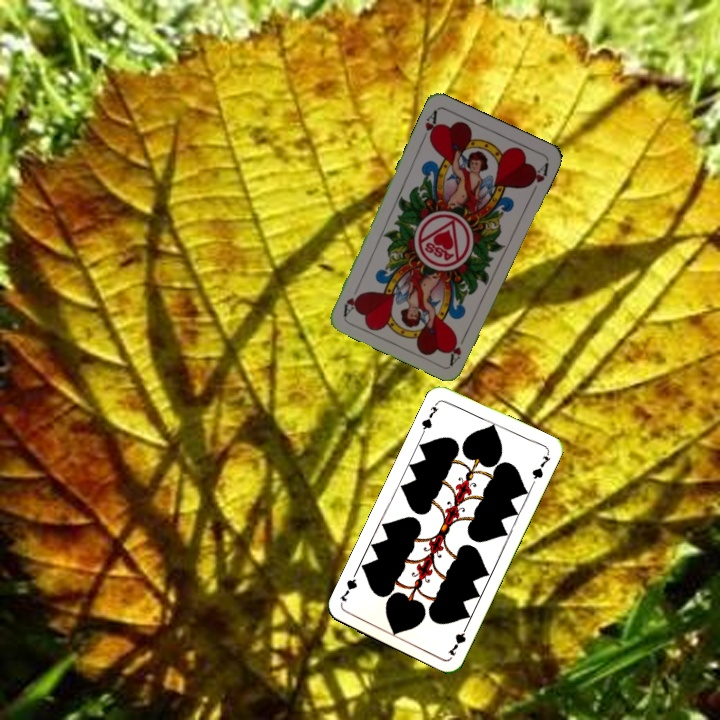G7: (444, 620, 471, 659), (417, 402, 441, 436)
HA: (417, 106, 441, 145), (446, 328, 470, 367)
